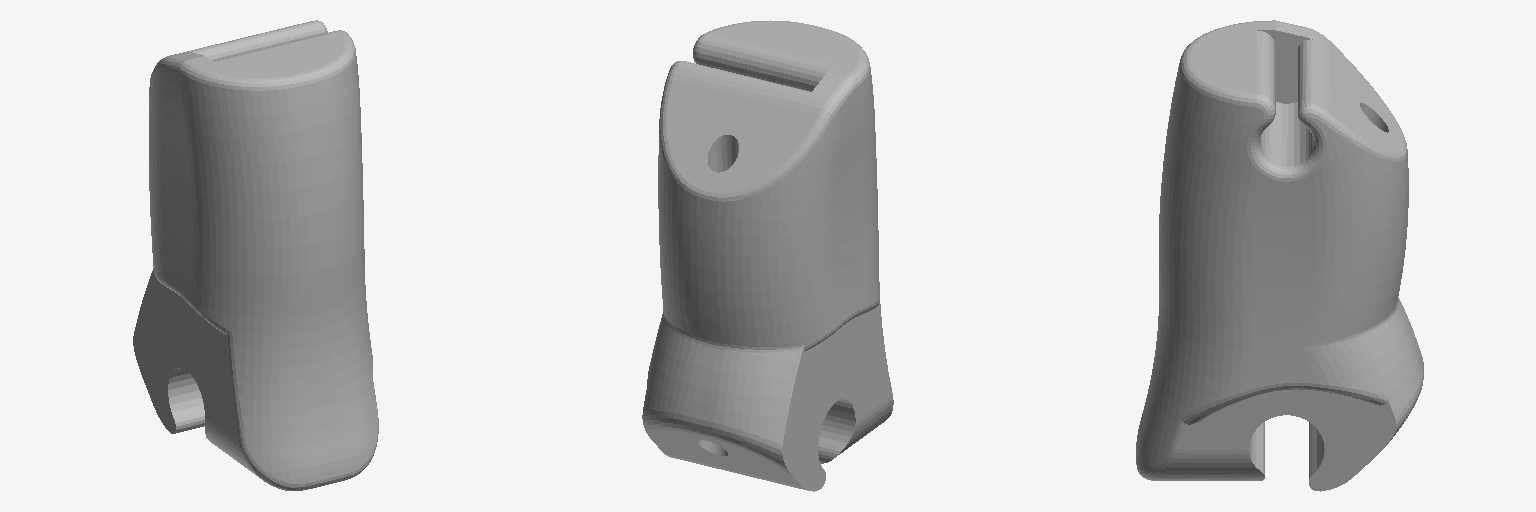
robot.urdf — root:
<?xml version='1.0' encoding='utf-8'?>
<robot name="root">
  <link name="link_001">
    <visual>
      <origin xyz="0 0 0" rpy="0 0 0" />
      <geometry>
        <mesh filename="3e9bac8c515cfe2f0f10f80cbb92e87323ea1158bdb8463c3f61c8eb68a29e0f_scale_000.stl" scale="1.0000E+00 1.0000E+00 1.0000E+00" />
      </geometry>
      <material name="">
        <color rgba="7.50E-01 7.50E-01 7.50E-01 1" />
      </material>
    </visual>
    <collision>
      <origin xyz="0 0 0" rpy="0 0 0" />
      <geometry>
        <mesh filename="3e9bac8c515cfe2f0f10f80cbb92e87323ea1158bdb8463c3f61c8eb68a29e0f_scale_000.stl" scale="1.0000E+00 1.0000E+00 1.0000E+00" />
      </geometry>
    </collision>
  </link>
</robot>

--- What the picture shows (computed from the rendered views, not written in the file) ---
3 views of the same robot in one strip: view 1: azimuth 30°, elevation 25°; view 2: azimuth 150°, elevation 25°; view 3: azimuth 270°, elevation 25° (orthographic).
Robot: root — 1 links, 0 joints (none); root link link_001; default pose: every joint at zero.
Links seen in each view (by area): view 1: link_001; view 2: link_001; view 3: link_001.
Link boxes in pixels (box(x1,y1,x2,y2)): link_001: box(133, 20, 378, 490); link_001: box(642, 20, 893, 491); link_001: box(1136, 20, 1423, 491).
Size in the robot's own frame: 0.0514 by 0.0754 by 0.1174 metres.
1 mesh visuals loaded from 1 distinct referenced files (1 binary STL).
